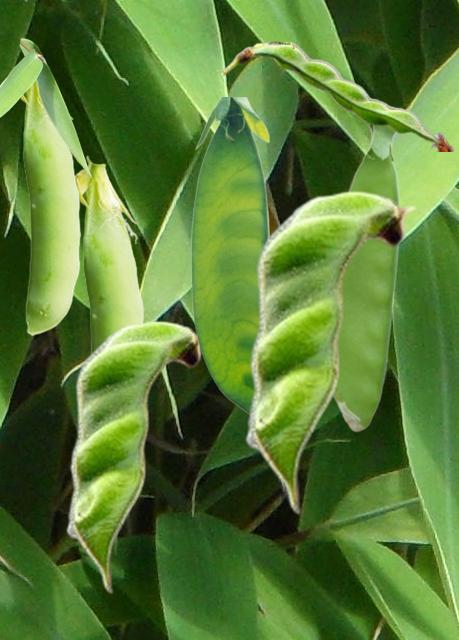pea: (244, 190, 416, 514), (65, 320, 203, 593), (221, 41, 453, 150), (190, 97, 270, 413), (334, 126, 400, 431), (20, 84, 79, 334), (75, 155, 143, 354)
